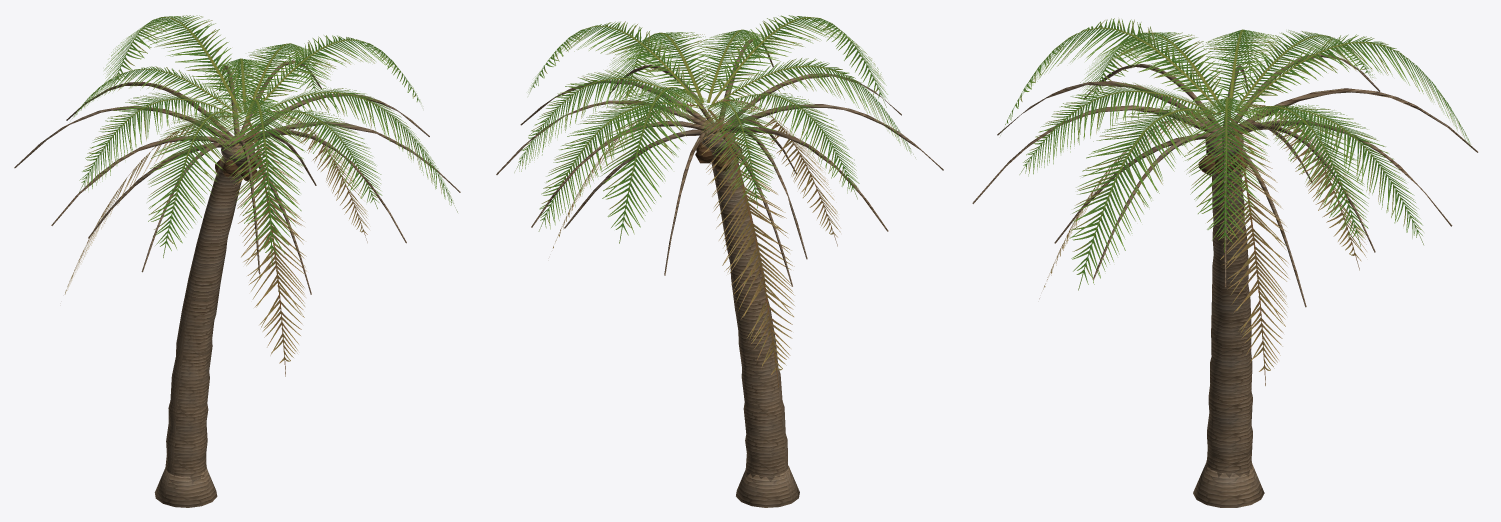
Rendered from palm_tree_a.glb.
3 renders of one model, left to right at view 1: azimuth 30°, elevation 25°; view 2: azimuth 150°, elevation 25°; view 3: azimuth 270°, elevation 25°, orthographic. The views are drawn at different scales.
Visible parts, largest first — view 1: palm_tree_a_fronds, palm_tree_a_Bark_Palm, palm_tree_a_fronds_dry; view 2: palm_tree_a_fronds, palm_tree_a_Bark_Palm, palm_tree_a_fronds_dry; view 3: palm_tree_a_fronds, palm_tree_a_Bark_Palm, palm_tree_a_fronds_dry.
Part boxes in pixels (<box>): palm_tree_a_fronds: <box>72,15,457,266</box>; palm_tree_a_Bark_Palm: <box>14,60,460,507</box>; palm_tree_a_fronds_dry: <box>65,110,369,376</box>; palm_tree_a_fronds: <box>514,15,915,243</box>; palm_tree_a_Bark_Palm: <box>496,38,943,507</box>; palm_tree_a_fronds_dry: <box>553,99,840,387</box>; palm_tree_a_fronds: <box>1000,18,1470,290</box>; palm_tree_a_Bark_Palm: <box>972,54,1478,507</box>; palm_tree_a_fronds_dry: <box>1039,104,1366,385</box>.
Bounding box in the file's own units: 7.39 × 8.07 × 7.88.
Materials: 4 (4 with a texture image).
